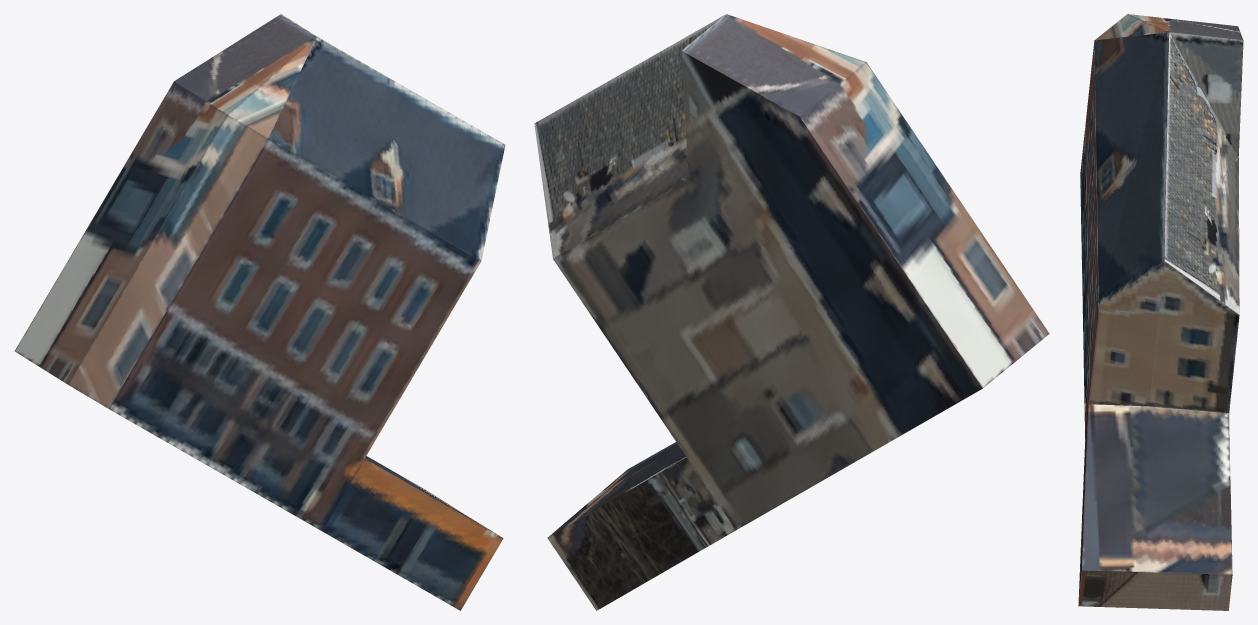
The picture shows the model from 3 angles, left to right: view 1: azimuth 30°, elevation 25°; view 2: azimuth 150°, elevation 25°; view 3: azimuth 270°, elevation 25°; orthographic projection. The views are drawn at different scales.
Parts seen in each view (by area): view 1: BAG_0599100000671744 (×4); view 2: BAG_0599100000671744 (×3); view 3: BAG_0599100000671744 (×4).
Boxes of the visible parts, left/top/right/bottom form: BAG_0599100000671744 (×4): left=14, top=14, right=505, bottom=610; BAG_0599100000671744 (×3): left=534, top=14, right=1049, bottom=610; BAG_0599100000671744 (×4): left=1078, top=14, right=1243, bottom=610.
Size of the model in its own units: 22.72 by 26.59 by 7.42.
Materials: 1 (1 with a texture image).
